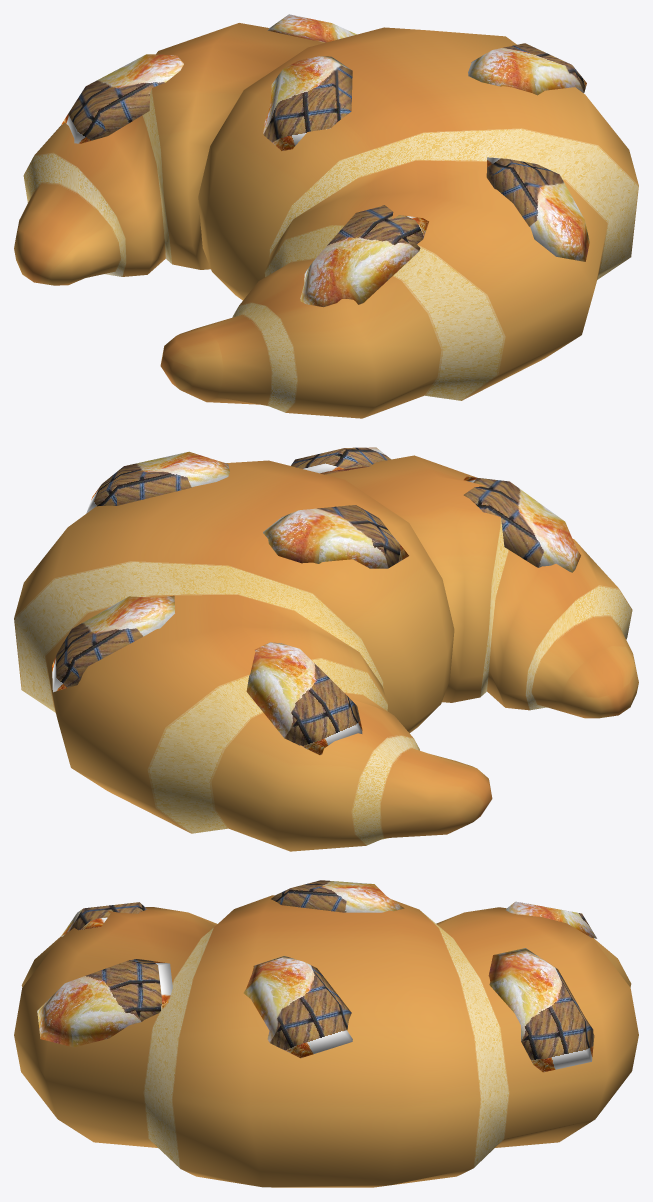
The model's file is croissantPecan.gltf.
3 views of the same model, one above another, from view 1: azimuth 30°, elevation 25°; view 2: azimuth 150°, elevation 25°; view 3: azimuth 270°, elevation 25° (orthographic). The views are drawn at different scales.
Parts seen in each view (by area): view 1: Pecan.004; view 2: Pecan.004; view 3: Pecan.004.
Part boxes in pixels (x1=…): Pecan.004: x1=14, y1=14, x2=638, y2=418; Pecan.004: x1=14, y1=447, x2=638, y2=851; Pecan.004: x1=14, y1=880, x2=638, y2=1187.
Bounding box in the file's own units: 1.39 × 0.5947 × 1.58.
